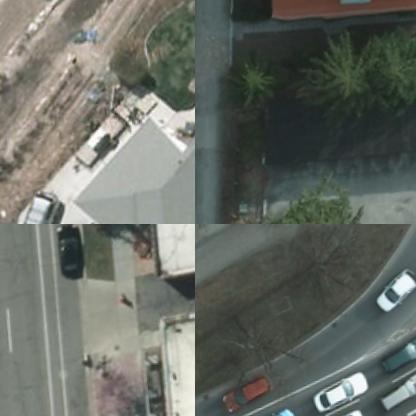car: (219, 375, 282, 415), (2, 188, 70, 223), (52, 226, 89, 288), (310, 378, 370, 414), (374, 272, 415, 322), (379, 336, 415, 381), (378, 376, 415, 415)
